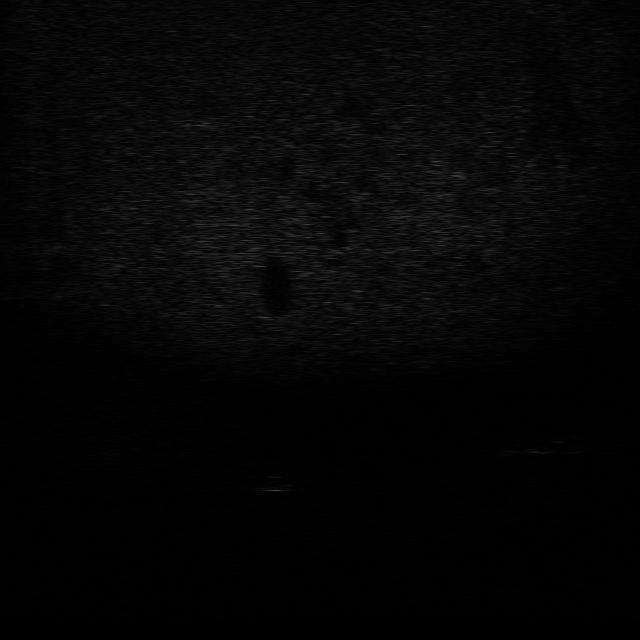ball: (250, 473, 298, 494)
human body: (482, 432, 590, 457)
